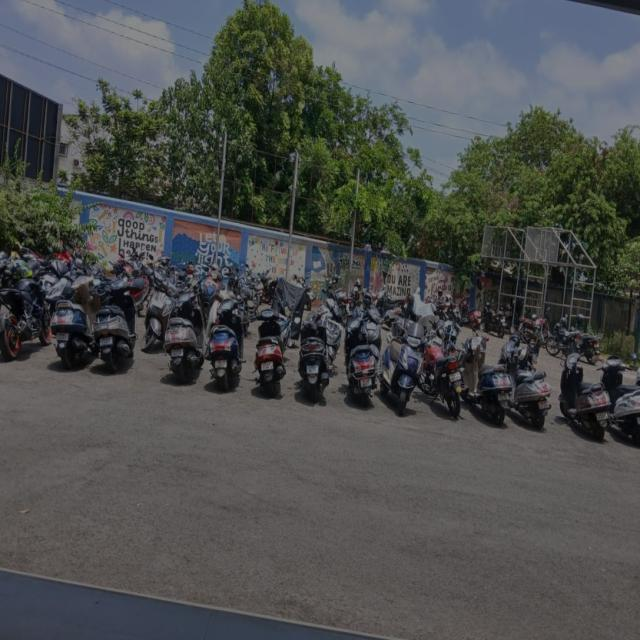Legalparking: (0, 201, 640, 501)
